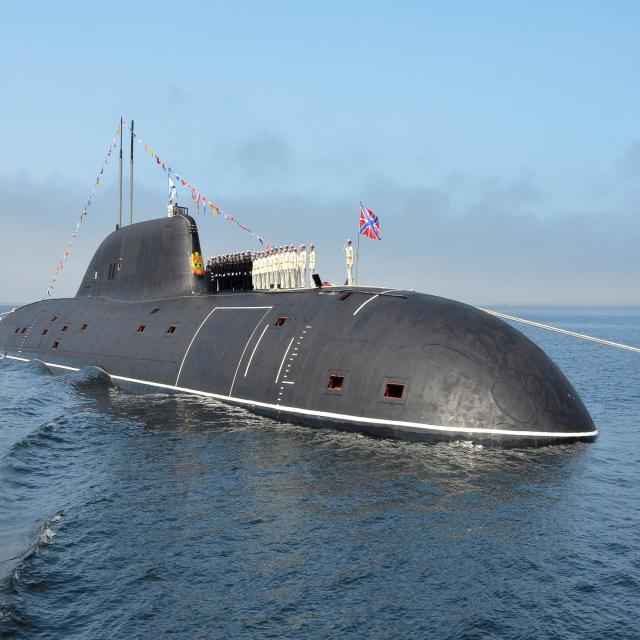submarine: (1, 104, 604, 458)
